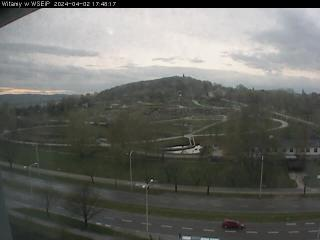car: (221, 218, 244, 230)
